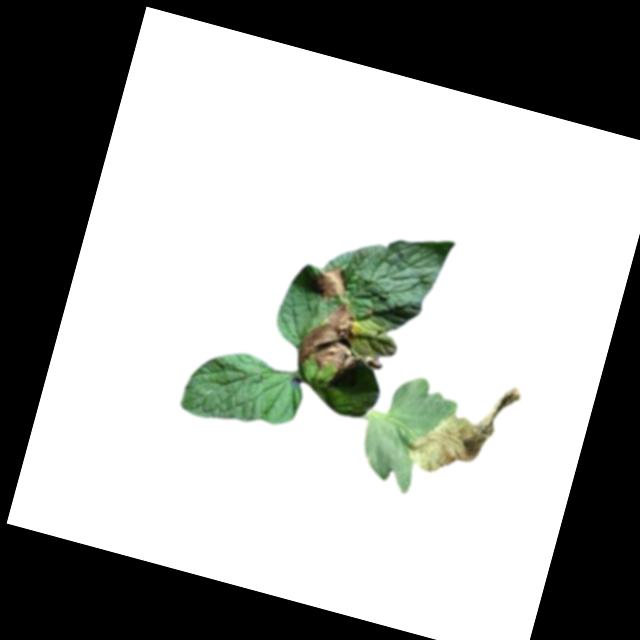Late_blight: (401, 361, 525, 491), (294, 295, 397, 391), (310, 260, 356, 304)
